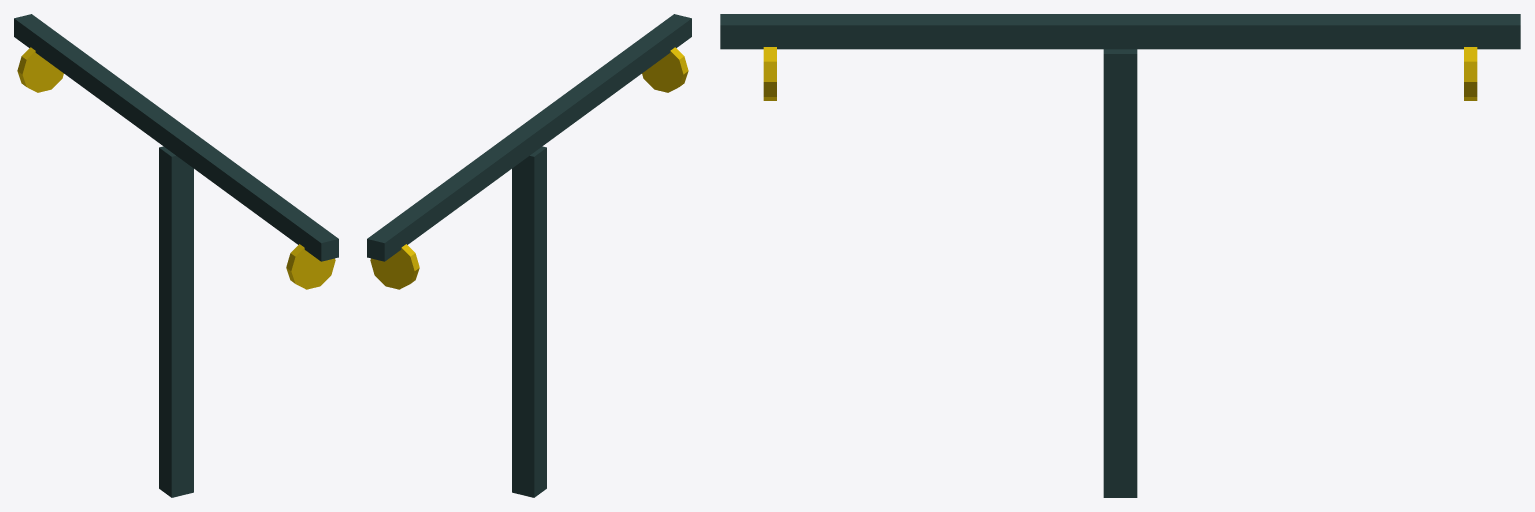
File: rope_tow_post.obj
3 views of the same model, side by side, from view 1: azimuth 30°, elevation 25°; view 2: azimuth 150°, elevation 25°; view 3: azimuth 270°, elevation 25° (orthographic). The views are drawn at different scales.
Size of the model in its own units: 0.2 by 1.56 by 2.4.
